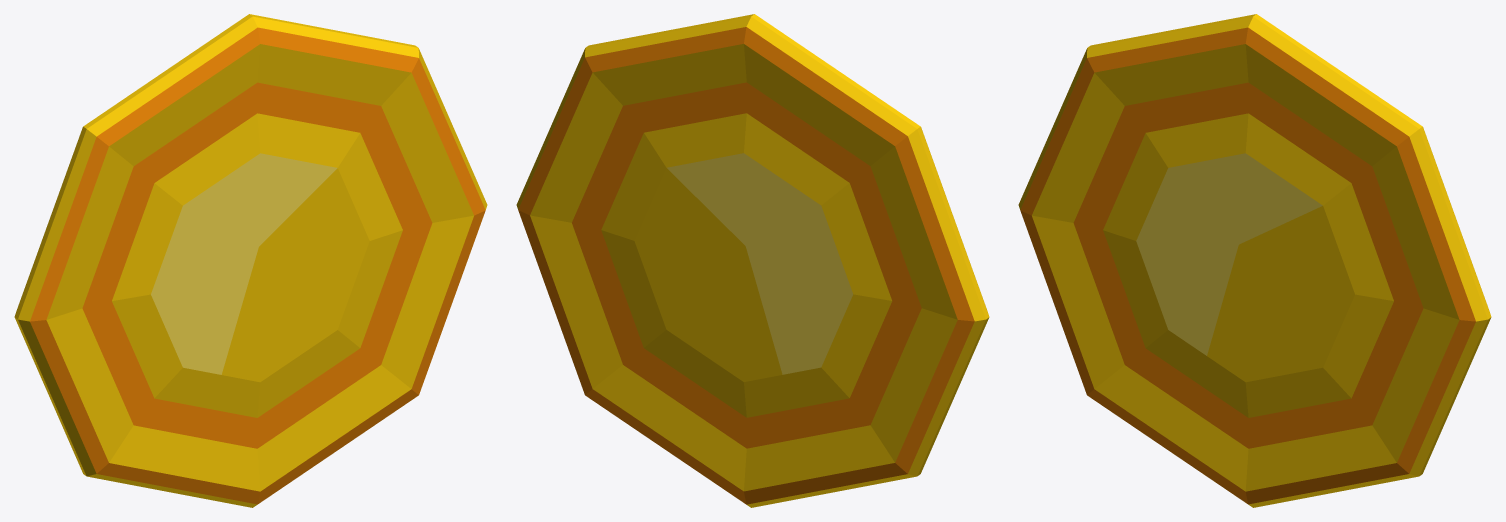
Rendered from Moneda.fbx.
3 views of the same model, side by side, from view 1: azimuth 30°, elevation 25°; view 2: azimuth 150°, elevation 25°; view 3: azimuth 330°, elevation 25° (orthographic).
Parts seen in each view (by area): view 1: Circle; view 2: Circle; view 3: Circle.
Part boxes in pixels (x1,y1,x2,y2): Circle: [14, 14, 487, 507]; Circle: [516, 14, 989, 507]; Circle: [1018, 14, 1491, 507].
Bounding box in the file's own units: 79.3 × 79.3 × 6.87.
